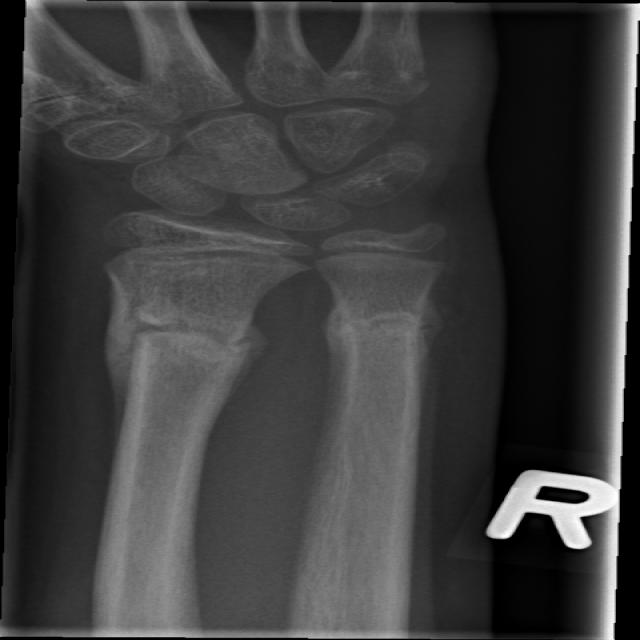radius fracture: (46, 281, 291, 443)
ulna fracture: (295, 267, 463, 430)
